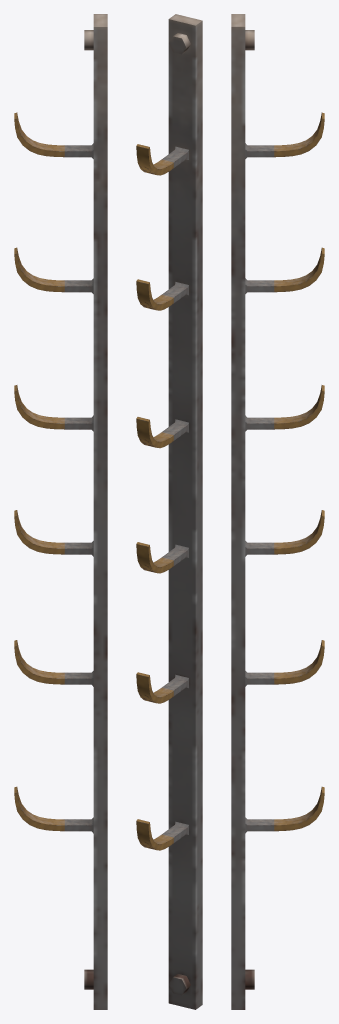
File: HJ_MKHZ_003_01.FBX
3 renders of one model, left to right at view 1: azimuth 90°, elevation 25°; view 2: azimuth 150°, elevation 25°; view 3: azimuth 270°, elevation 25°, orthographic.
Visible parts, largest first — view 1: HJ_MKHZ_003_00; view 2: HJ_MKHZ_003_00; view 3: HJ_MKHZ_003_00.
Part boxes in pixels (bbox=[...]): HJ_MKHZ_003_00: bbox=[14, 14, 107, 1009]; HJ_MKHZ_003_00: bbox=[136, 14, 202, 1009]; HJ_MKHZ_003_00: bbox=[231, 14, 324, 1009].
Size of the model in its own units: 0.0717 by 2.5 by 0.2155.
1 material, 1 textured.
